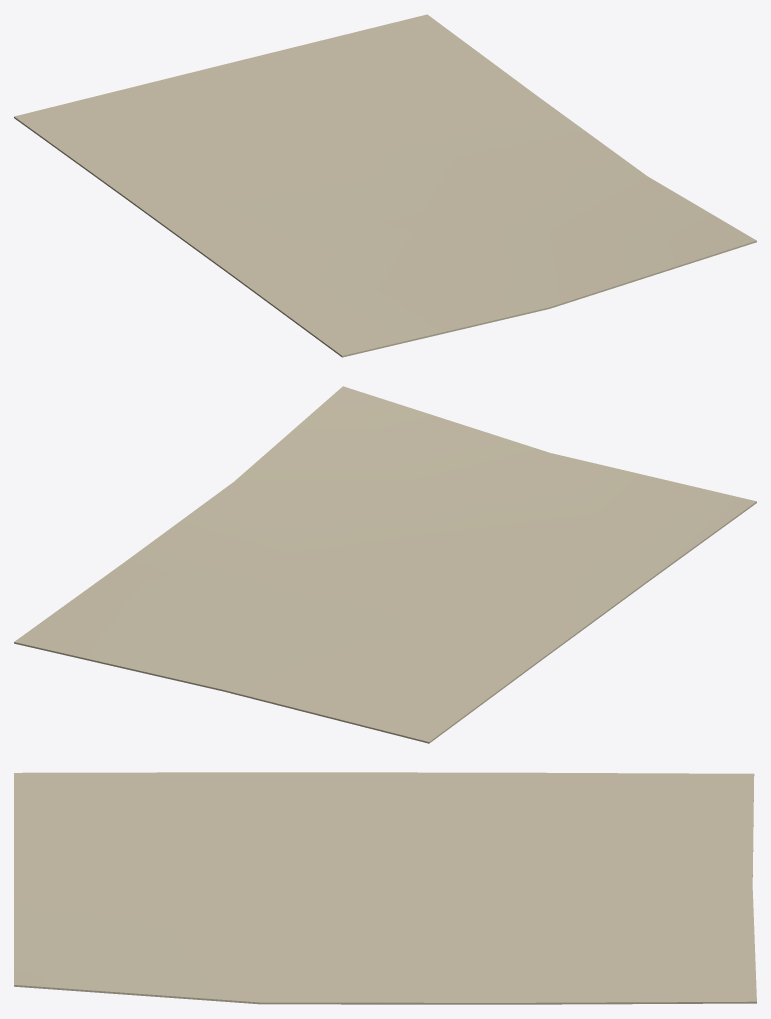
File: exercise-leaf-lod1.fbx
3 views of the same model, one above another, from view 1: azimuth 30°, elevation 25°; view 2: azimuth 150°, elevation 25°; view 3: azimuth 270°, elevation 25° (orthographic). The views are drawn at different scales.
Visible parts, largest first — view 1: Dog eared torn class exercise page; view 2: Dog eared torn class exercise page; view 3: Dog eared torn class exercise page.
Boxes of the visible parts, x1,y1,x2,y2 form: Dog eared torn class exercise page: [14, 14, 756, 357]; Dog eared torn class exercise page: [14, 386, 756, 743]; Dog eared torn class exercise page: [14, 772, 756, 1004].
Size of the model in its own units: 21.8 by 0.89 by 30.02.
